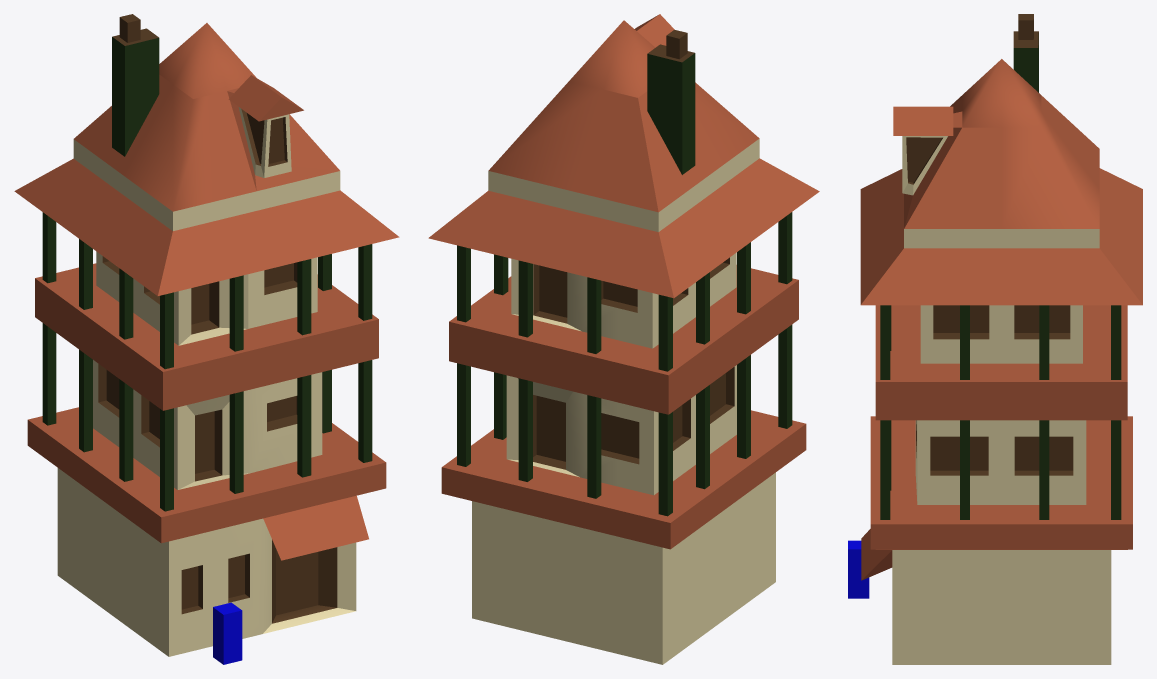
File: building.fbx
3 views of the same model, side by side, from view 1: azimuth 30°, elevation 25°; view 2: azimuth 150°, elevation 25°; view 3: azimuth 270°, elevation 25° (orthographic). The views are drawn at different scales.
Visible parts, largest first — view 1: pCube33; view 2: pCube33; view 3: pCube33.
Part boxes in pixels (x1=…): pCube33: x1=14, y1=14, x2=399, y2=664; pCube33: x1=428, y1=14, x2=819, y2=664; pCube33: x1=848, y1=14, x2=1142, y2=664.
Bounding box in the file's own units: 9.1 × 20.91 × 9.77.
